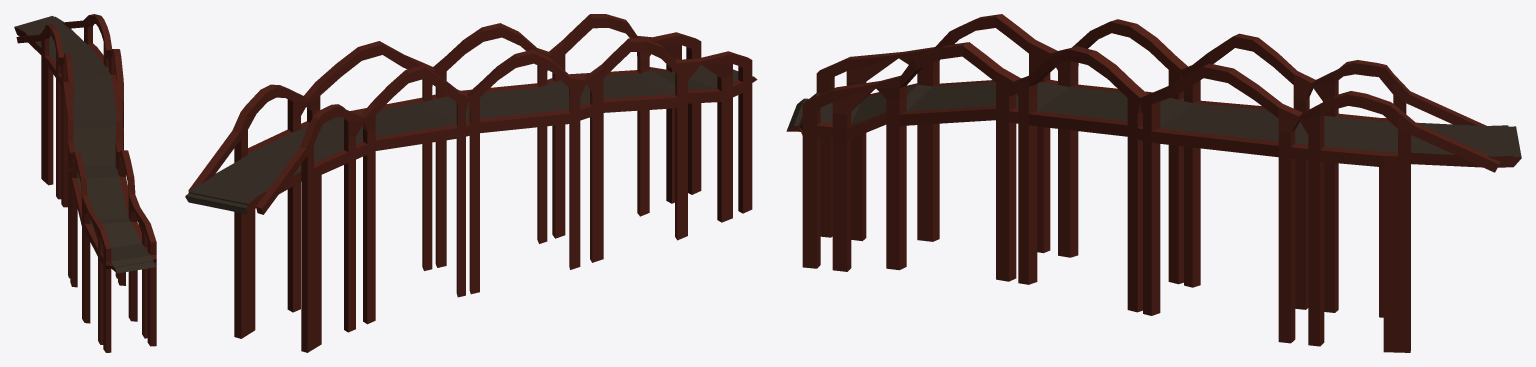
File: M_Brige.fbx
The picture shows the model from 3 angles, left to right: view 1: azimuth 30°, elevation 25°; view 2: azimuth 150°, elevation 25°; view 3: azimuth 270°, elevation 25°; orthographic projection. The views are drawn at different scales.
Parts seen in each view (by area): view 1: M_Brige; view 2: M_Brige; view 3: M_Brige.
Boxes of the visible parts, <box> form: M_Brige: <box>14,14,156,352</box>; M_Brige: <box>185,14,757,352</box>; M_Brige: <box>786,14,1521,352</box>.
Bounding box in the file's own units: 5064 × 4774 × 11727.
